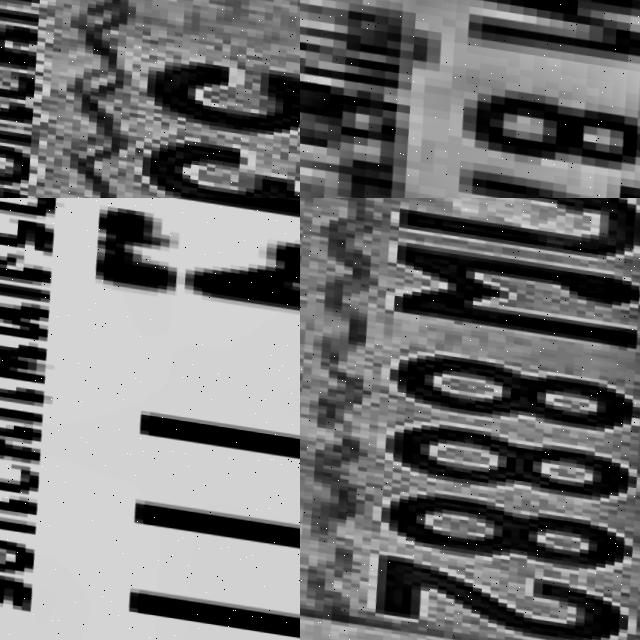license-plate: (300, 198, 640, 640), (0, 198, 300, 640), (300, 0, 640, 198), (0, 0, 300, 198)
